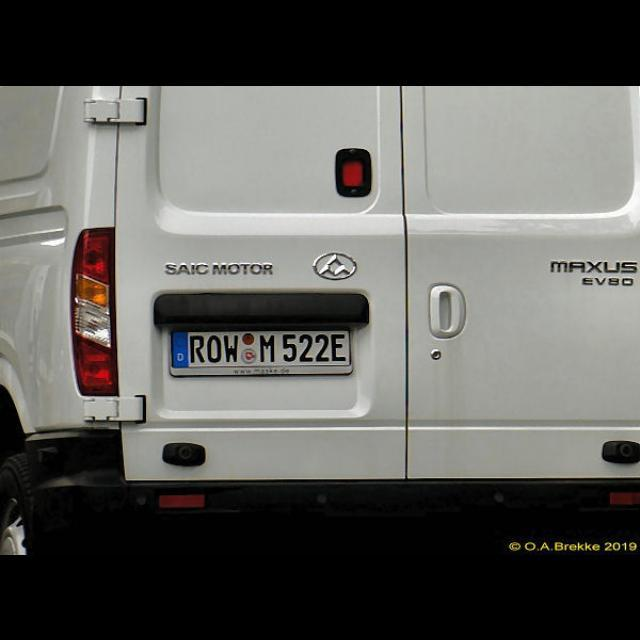license-plates: (170, 331, 353, 377)
